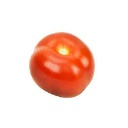tomato: (30, 32, 94, 98)
